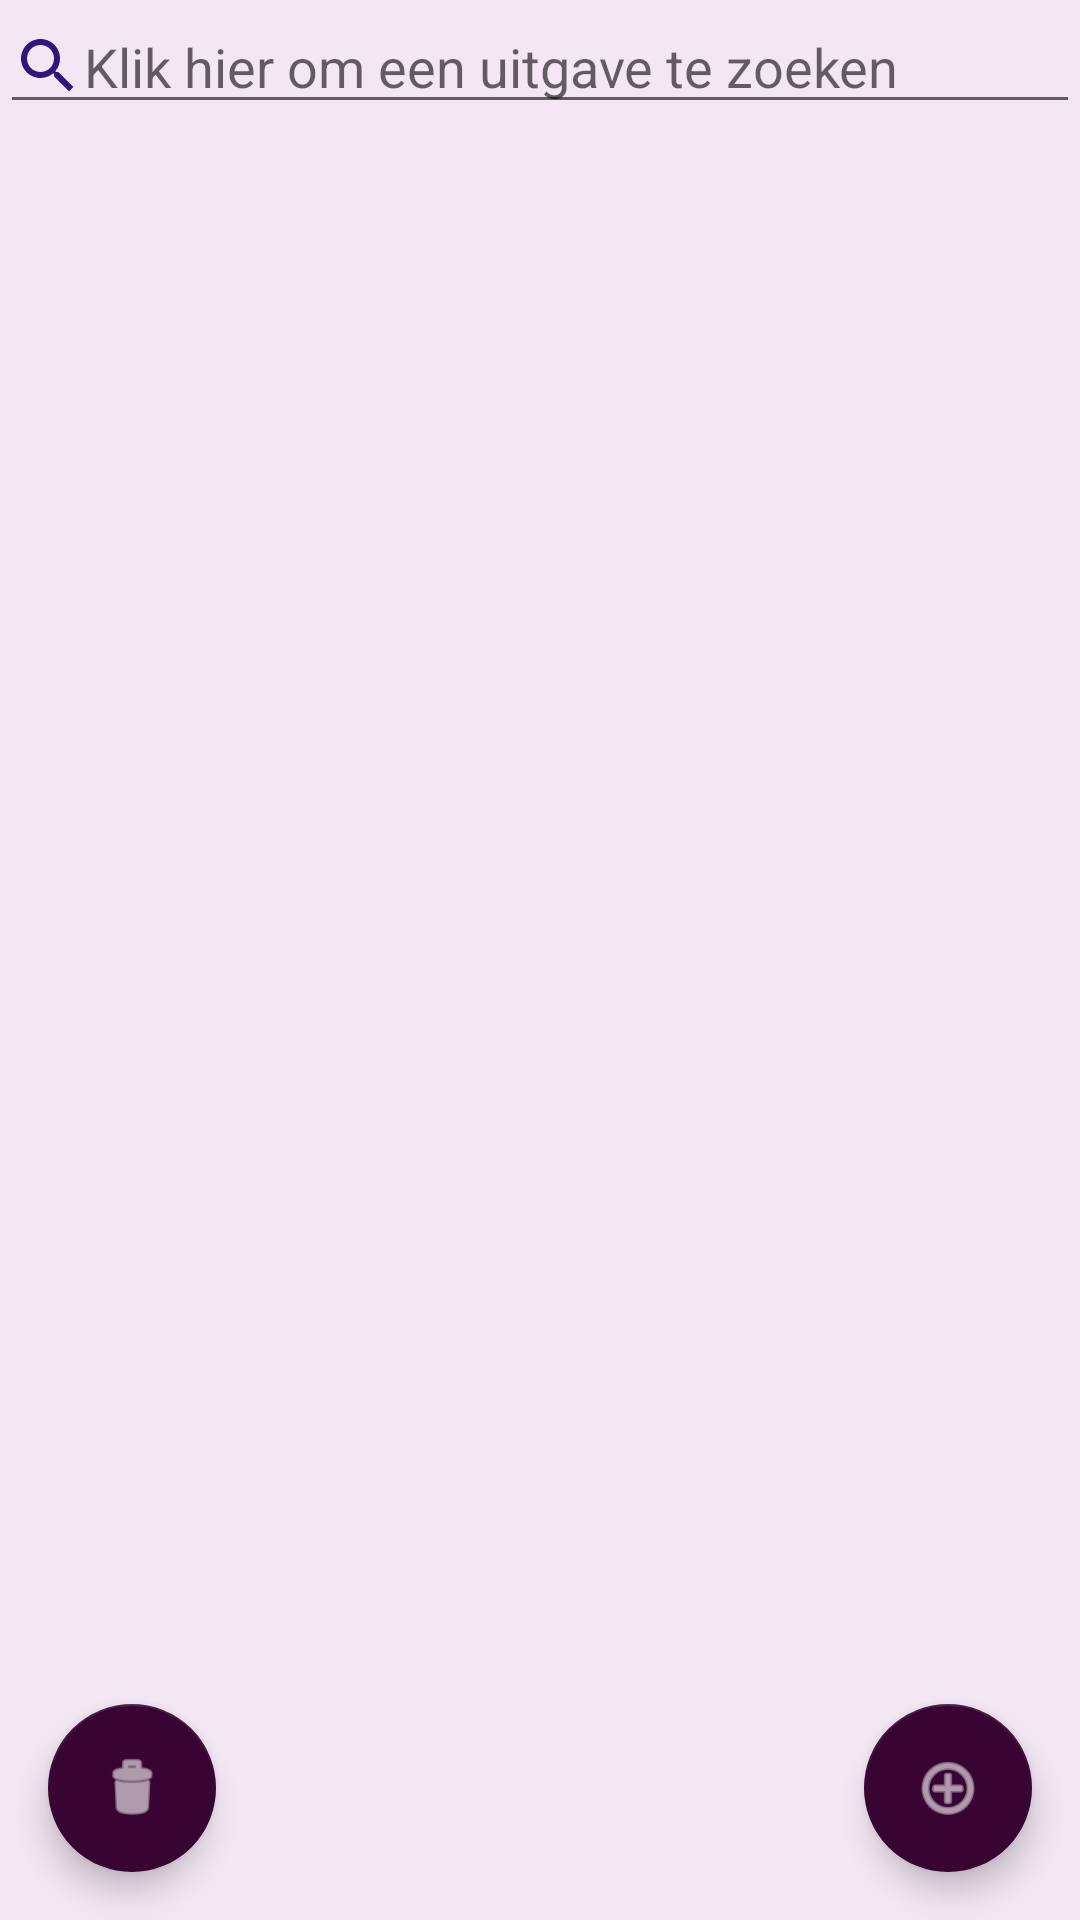

Point at icon controls on the screen. Image size 1080*1920, points as [x,y].
Verwijder uitgave: [132,1788]
Voeg nieuwe uitgave toe: [948,1788]
